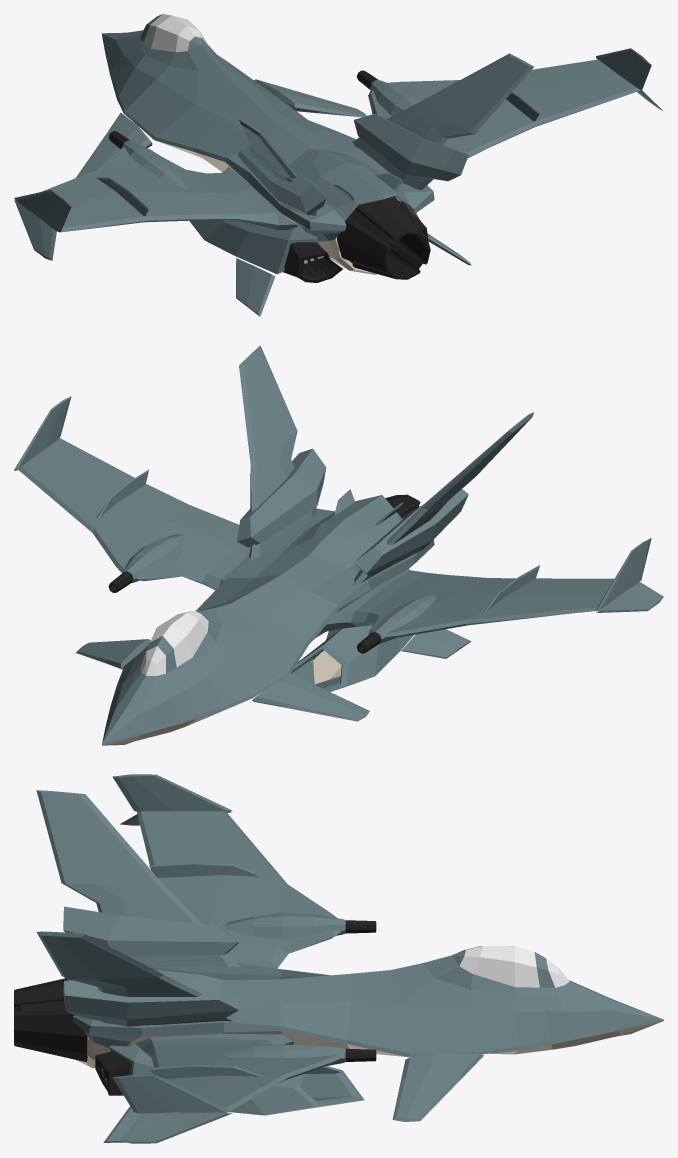
Rendered from space_ship.glb.
The picture shows the model from 3 angles, top to bottom: view 1: azimuth 30°, elevation 25°; view 2: azimuth 150°, elevation 25°; view 3: azimuth 270°, elevation 25°; orthographic projection. The views are drawn at different scales.
Visible parts, largest first — view 1: SS-3, SS-3.005, SS-3.002, intake, exhaust, SS-3.006, cannon, SS-3.001; view 2: SS-3.005, SS-3, SS-3.002, intake, SS-3.006, cannon, SS-3.001; view 3: SS-3, SS-3.005, SS-3.002, intake, cannon, exhaust, SS-3.006, SS-3.001.
Part boxes in pixels (<box>): SS-3: <box>102,30,434,274</box>; SS-3.005: <box>14,48,662,260</box>; SS-3.002: <box>237,53,533,215</box>; intake: <box>189,201,471,316</box>; exhaust: <box>337,196,430,279</box>; SS-3.006: <box>76,79,366,177</box>; cannon: <box>108,70,420,188</box>; SS-3.001: <box>140,14,208,52</box>; SS-3.005: <box>14,396,663,639</box>; SS-3: <box>102,489,434,745</box>; SS-3.002: <box>237,345,533,585</box>; intake: <box>286,625,471,691</box>; SS-3.006: <box>76,639,369,721</box>; cannon: <box>108,534,436,653</box>; SS-3.001: <box>140,610,208,676</box>; SS-3: <box>67,955,663,1067</box>; SS-3.005: <box>112,774,341,1143</box>; SS-3.002: <box>36,790,240,1026</box>; intake: <box>95,1044,364,1142</box>; cannon: <box>221,912,376,1066</box>; exhaust: <box>14,978,87,1062</box>; SS-3.006: <box>392,1053,483,1121</box>; SS-3.001: <box>452,946,569,987</box>.
Size of the model in its own units: 16.94 by 5.65 by 14.63.
